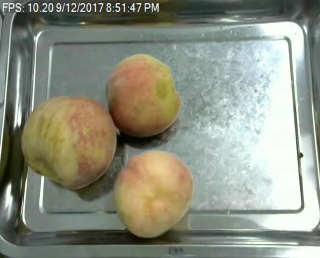Peach: (20, 95, 117, 188), (112, 150, 194, 238), (105, 53, 180, 137)
